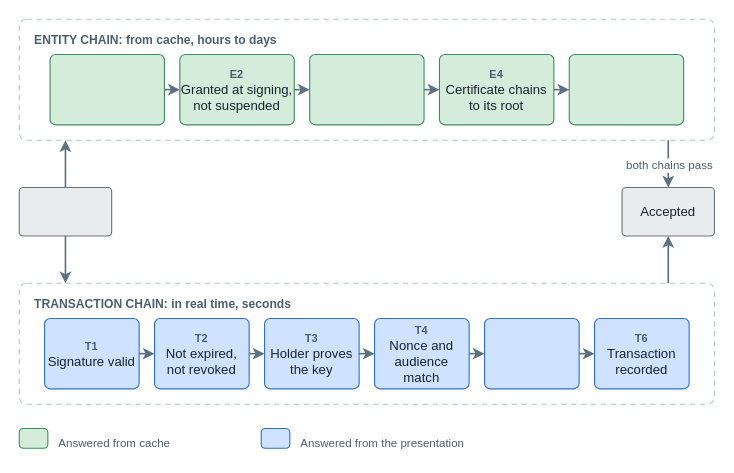
The diagram is 734 pixels wide and 473 high, and some of its shapes have lost their labels. Each missing label, with the centre of its shape:
"E1 DID resolves" goes at [106,89].
"E3 Authorized for this type at signing" goes at [366,89].
"E5 Foreign authority recognized" goes at [626,89].
"Presentation" goes at [65,211].
"T5 Verifier may ask this" goes at [531,353].
